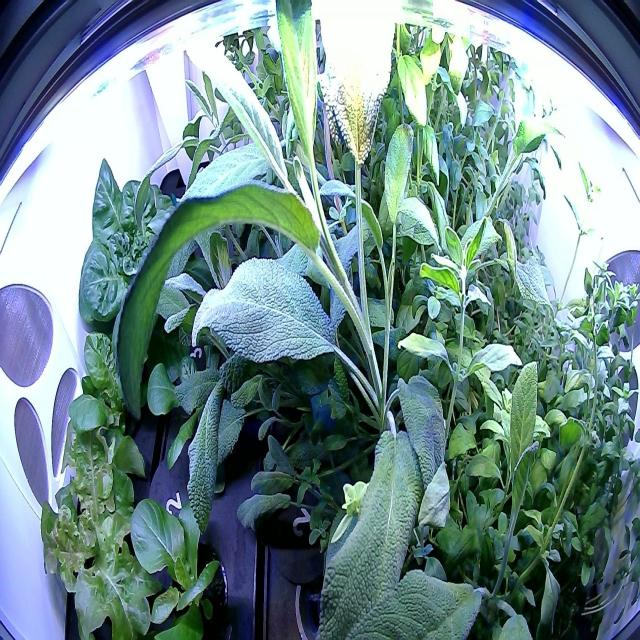Ready: (66, 146, 214, 356)
young: (122, 478, 241, 638), (58, 320, 165, 484)
